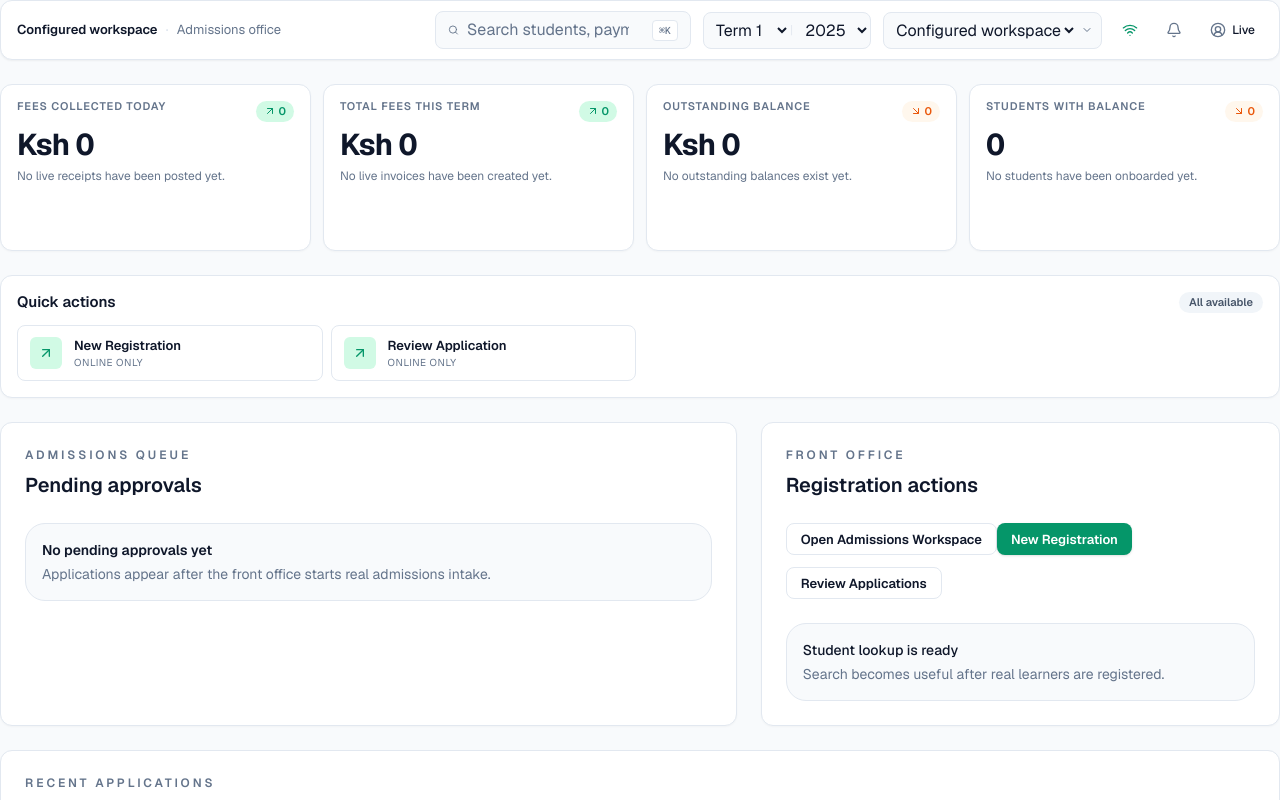
Test case: STEP 5: Interaction tests › does not expose learner search results before real admissions data exists
Type "300401" into the search field named "Global search".
click(556, 30); type("300401")  # box [467, 18, 644, 42]
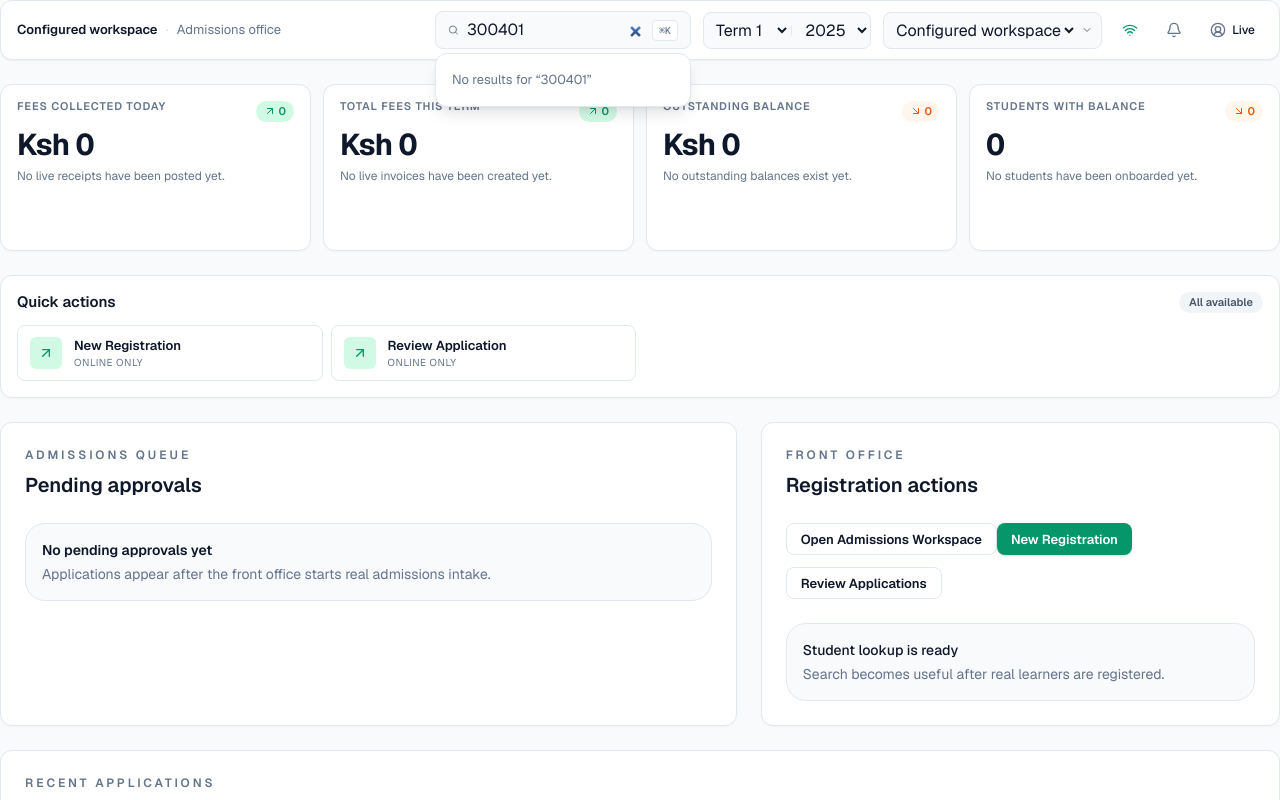
Check: the text "No results for “300401”" is shown, box [452, 71, 592, 88]
